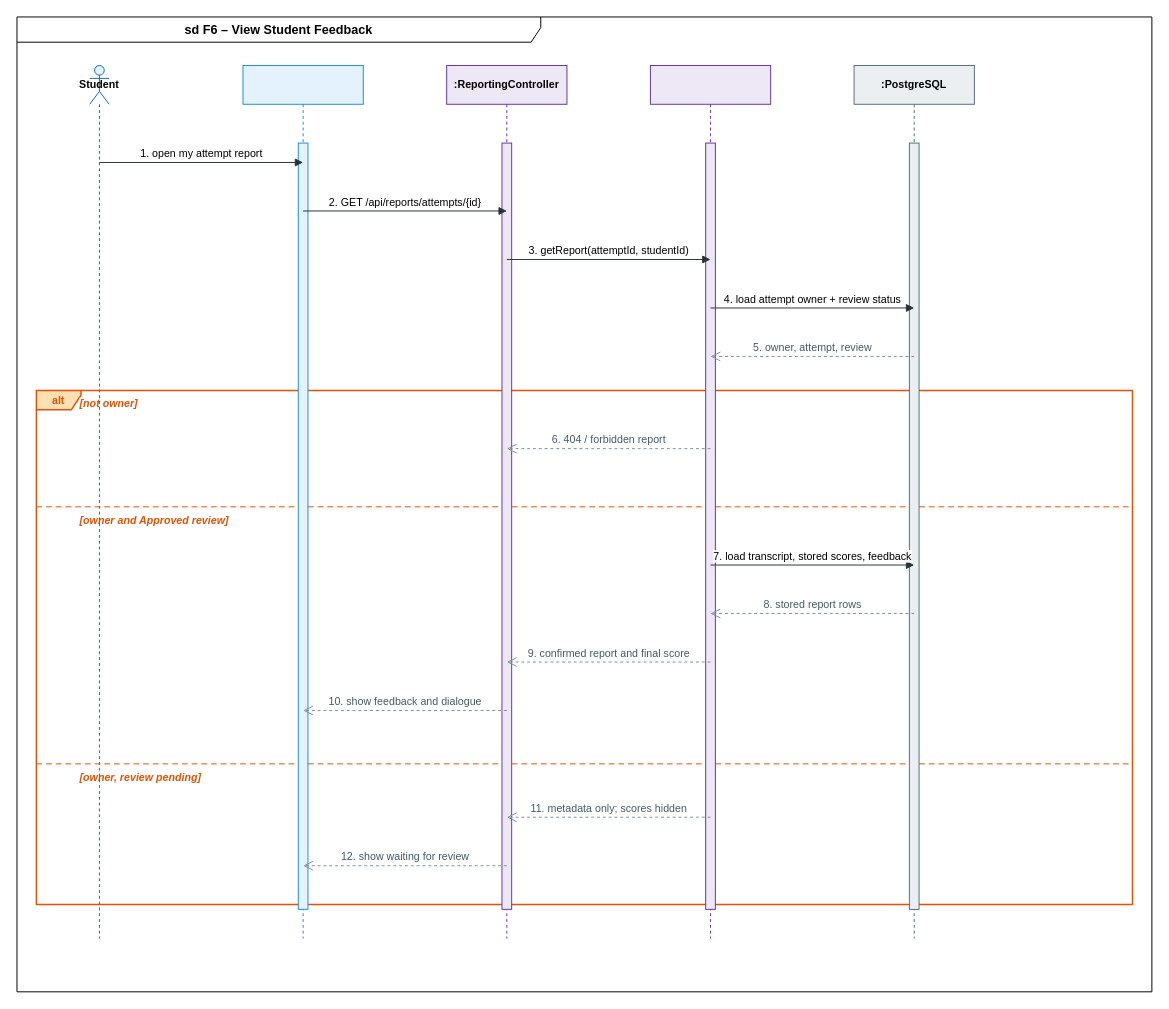
The diagram is 1169 pixels wide and 1009 high, and some of its shapes have lost their labels. Here are the shapes that lost their labels. From the top down, the box of each, then its label:
(242, 65, 363, 938): :ReportUI
(649, 65, 771, 938): :ReportService
